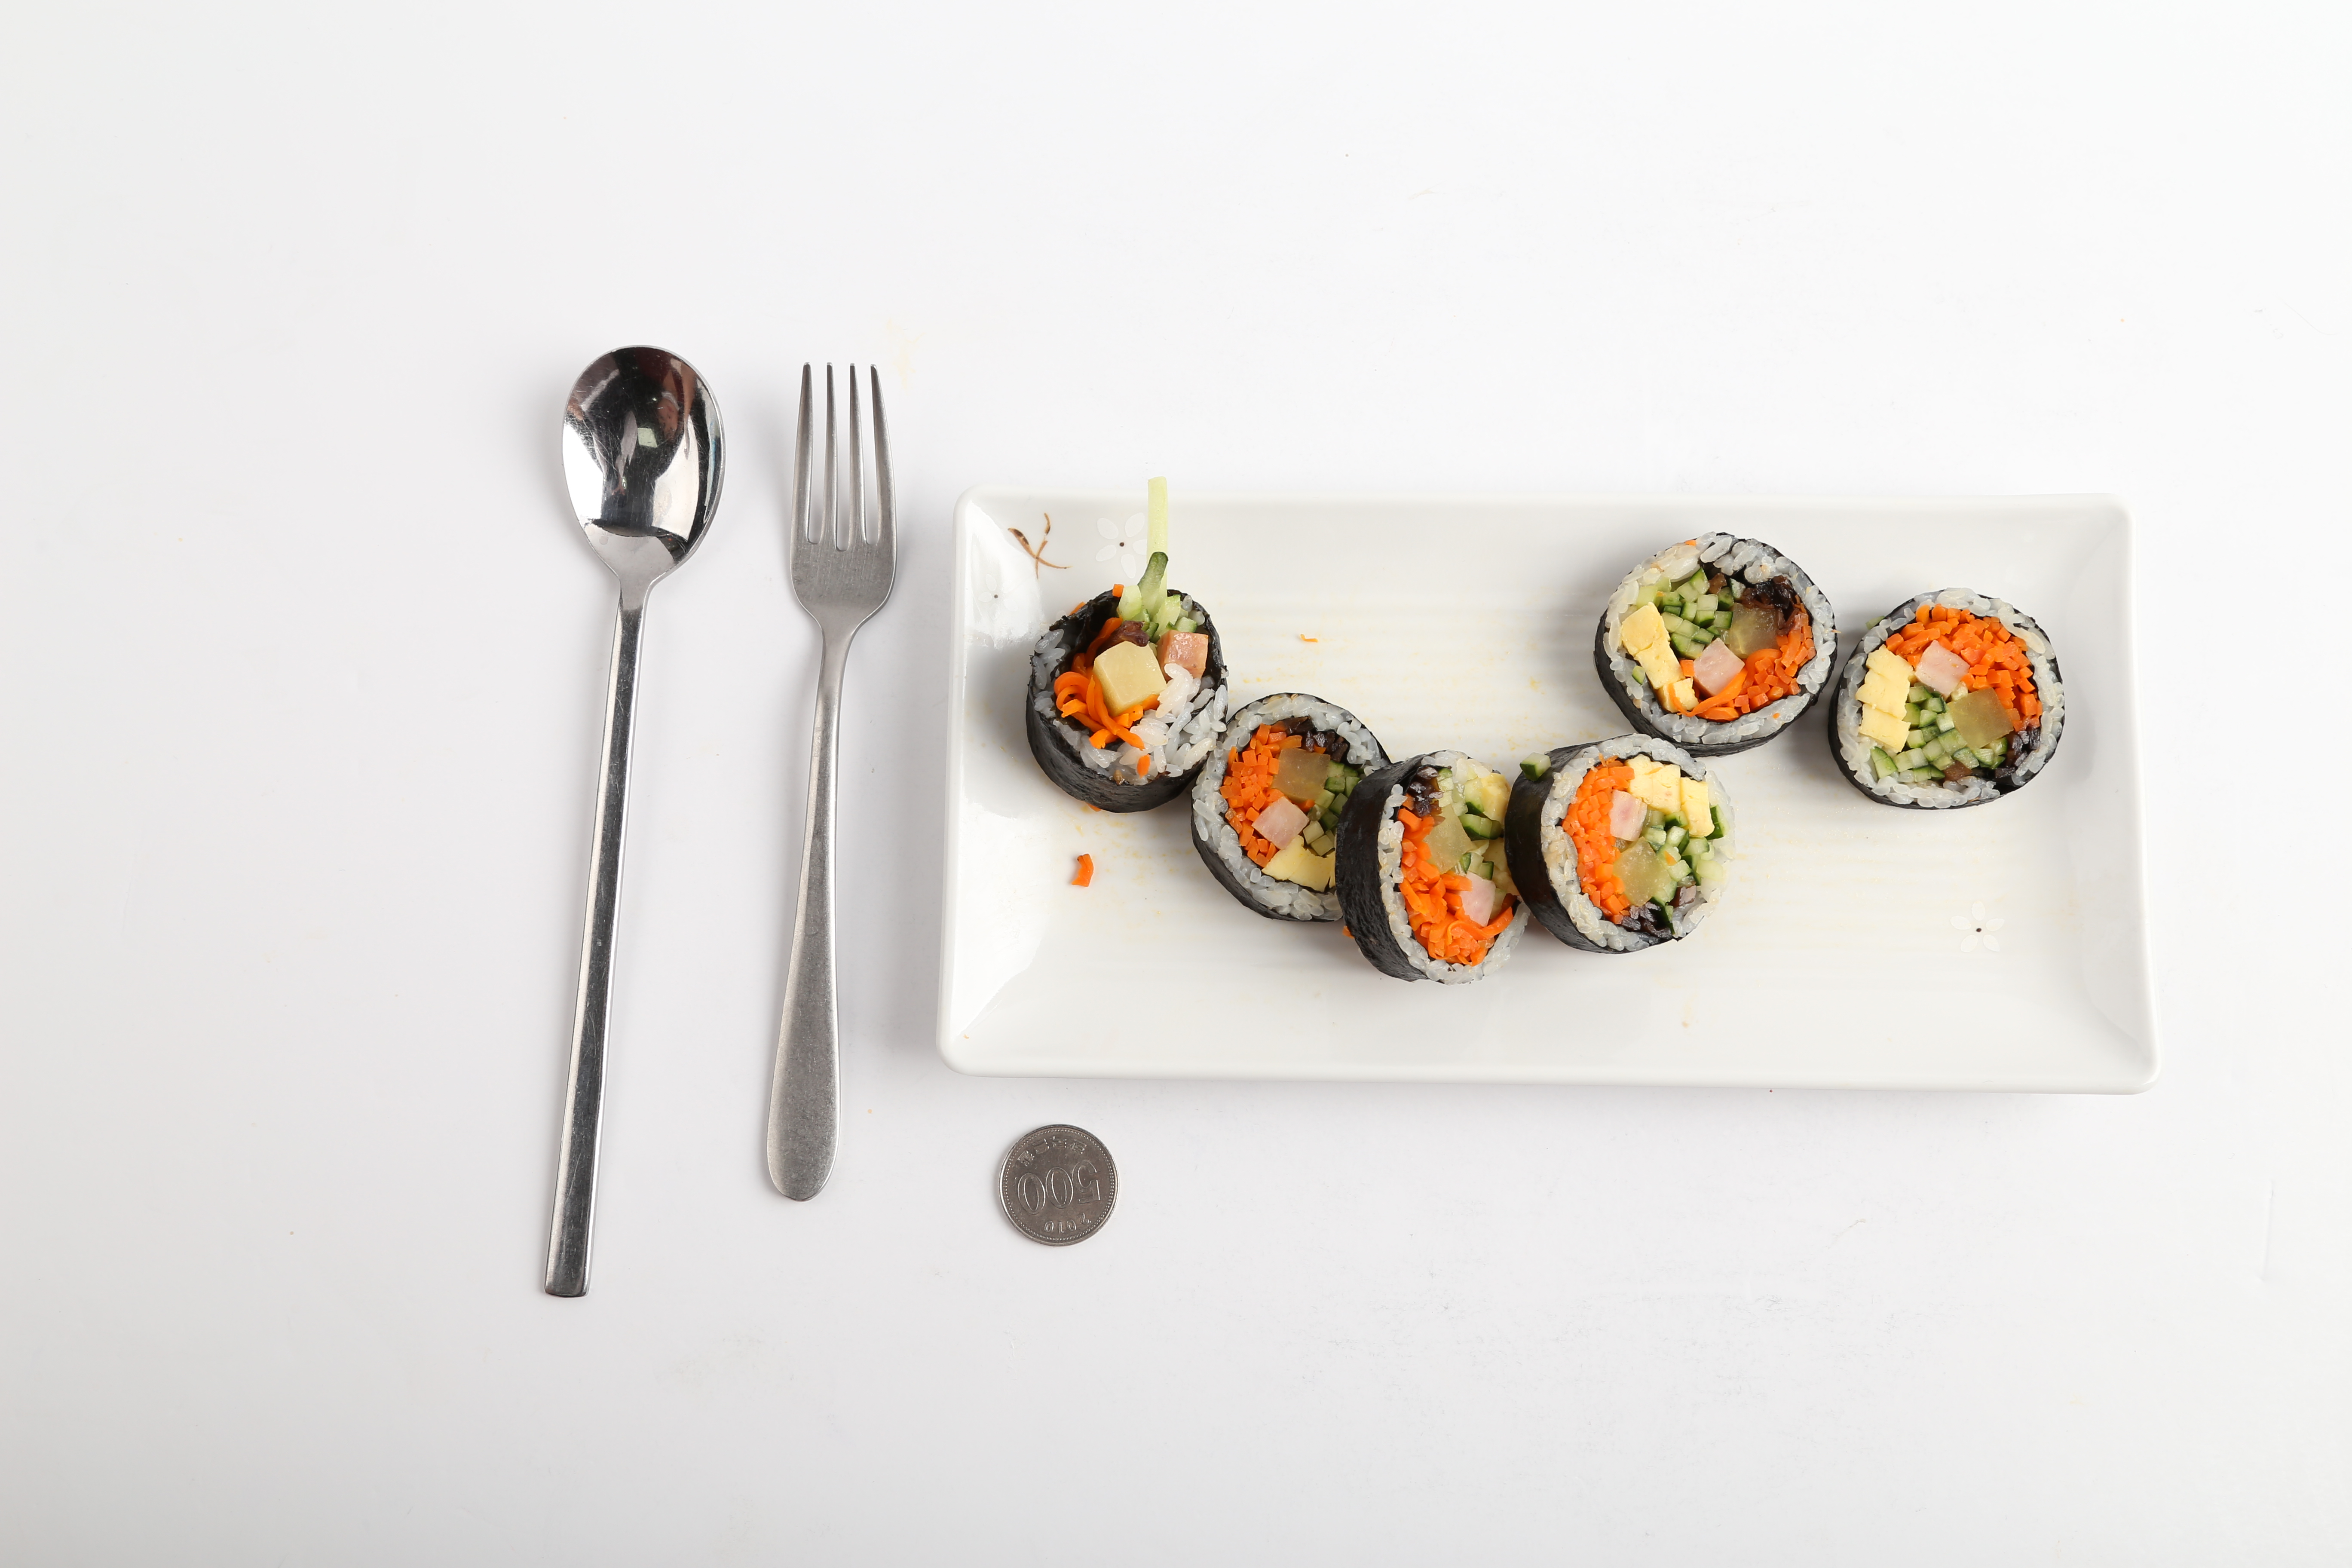dish: (931, 476, 2163, 1087)
ref_coin: (985, 1113, 1127, 1249)
ref_fork: (784, 360, 905, 670)
ref_spoon: (555, 339, 730, 646)
김밥: (1025, 527, 2063, 985)
